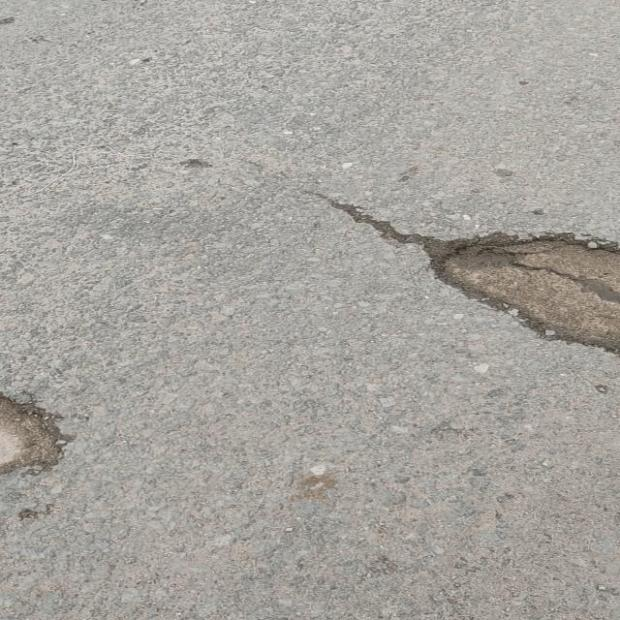lubang: (332, 202, 619, 353), (0, 377, 112, 516)
